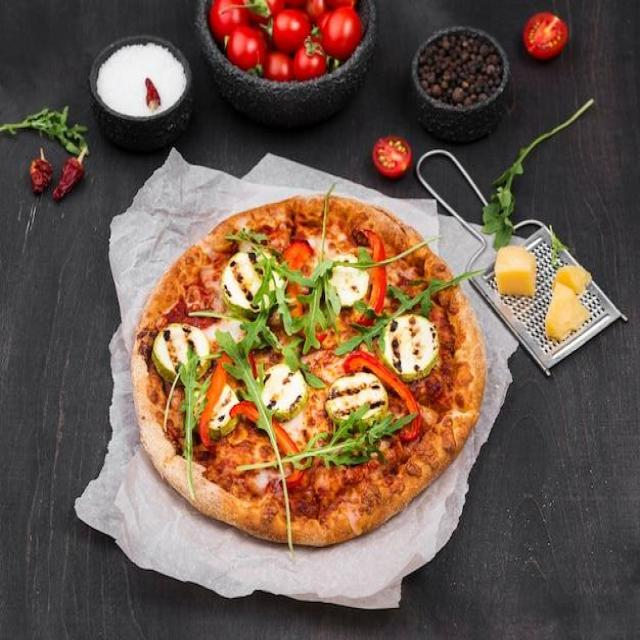pizza: (132, 195, 486, 547)
